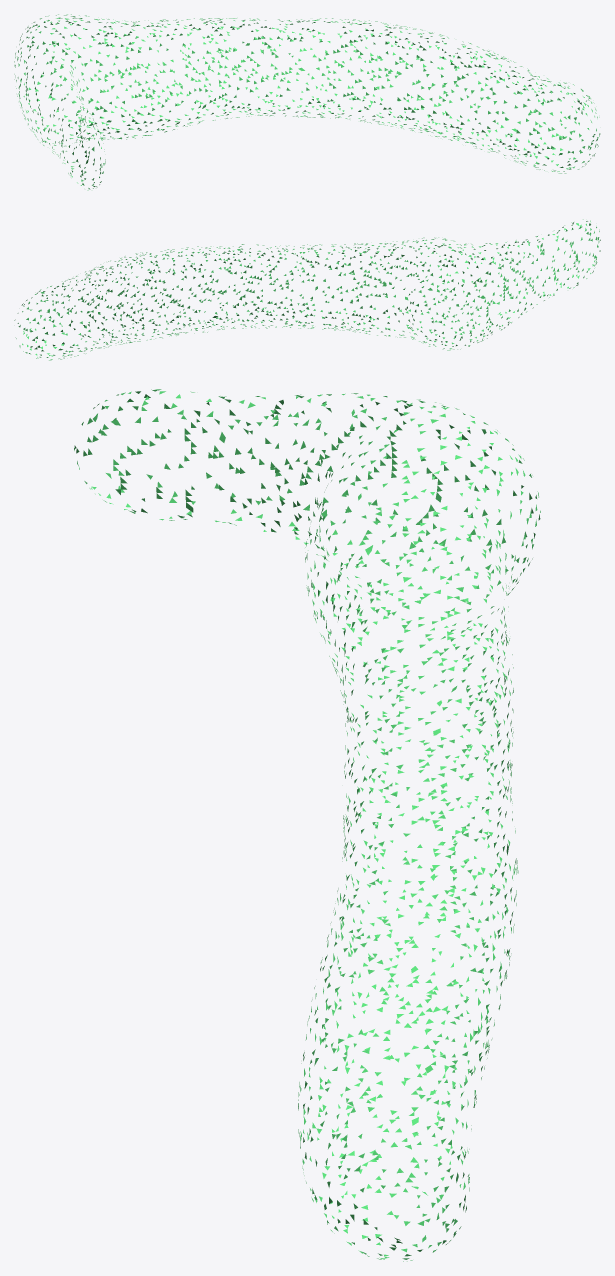
The model's file is morph_020.glb.
3 renders of one model, top to bottom at view 1: azimuth 30°, elevation 25°; view 2: azimuth 150°, elevation 25°; view 3: azimuth 270°, elevation 25°, orthographic. The views are drawn at different scales.
Bounding box in the file's own units: 120 × 49.63 × 48.14.
